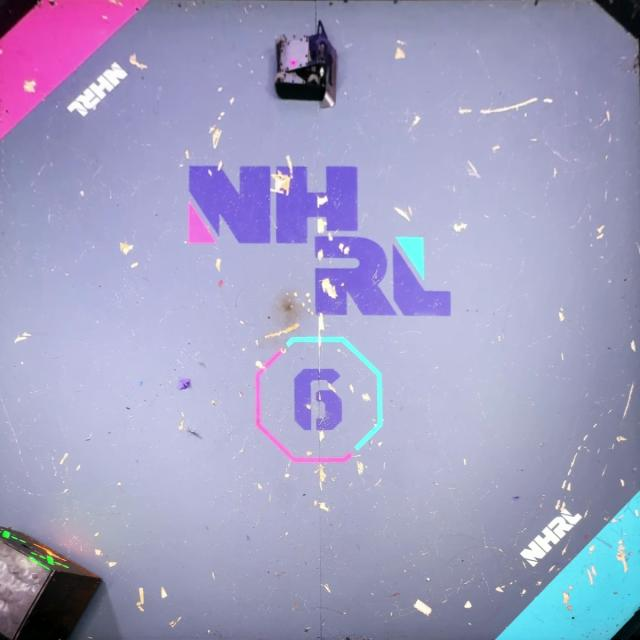housebot: (0, 521, 104, 640)
robot: (272, 18, 338, 108)
